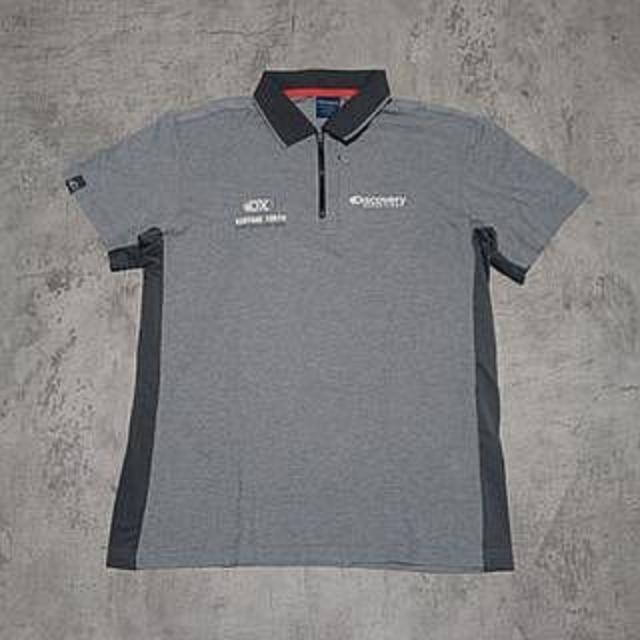T_SHIRT: (46, 58, 595, 581)
